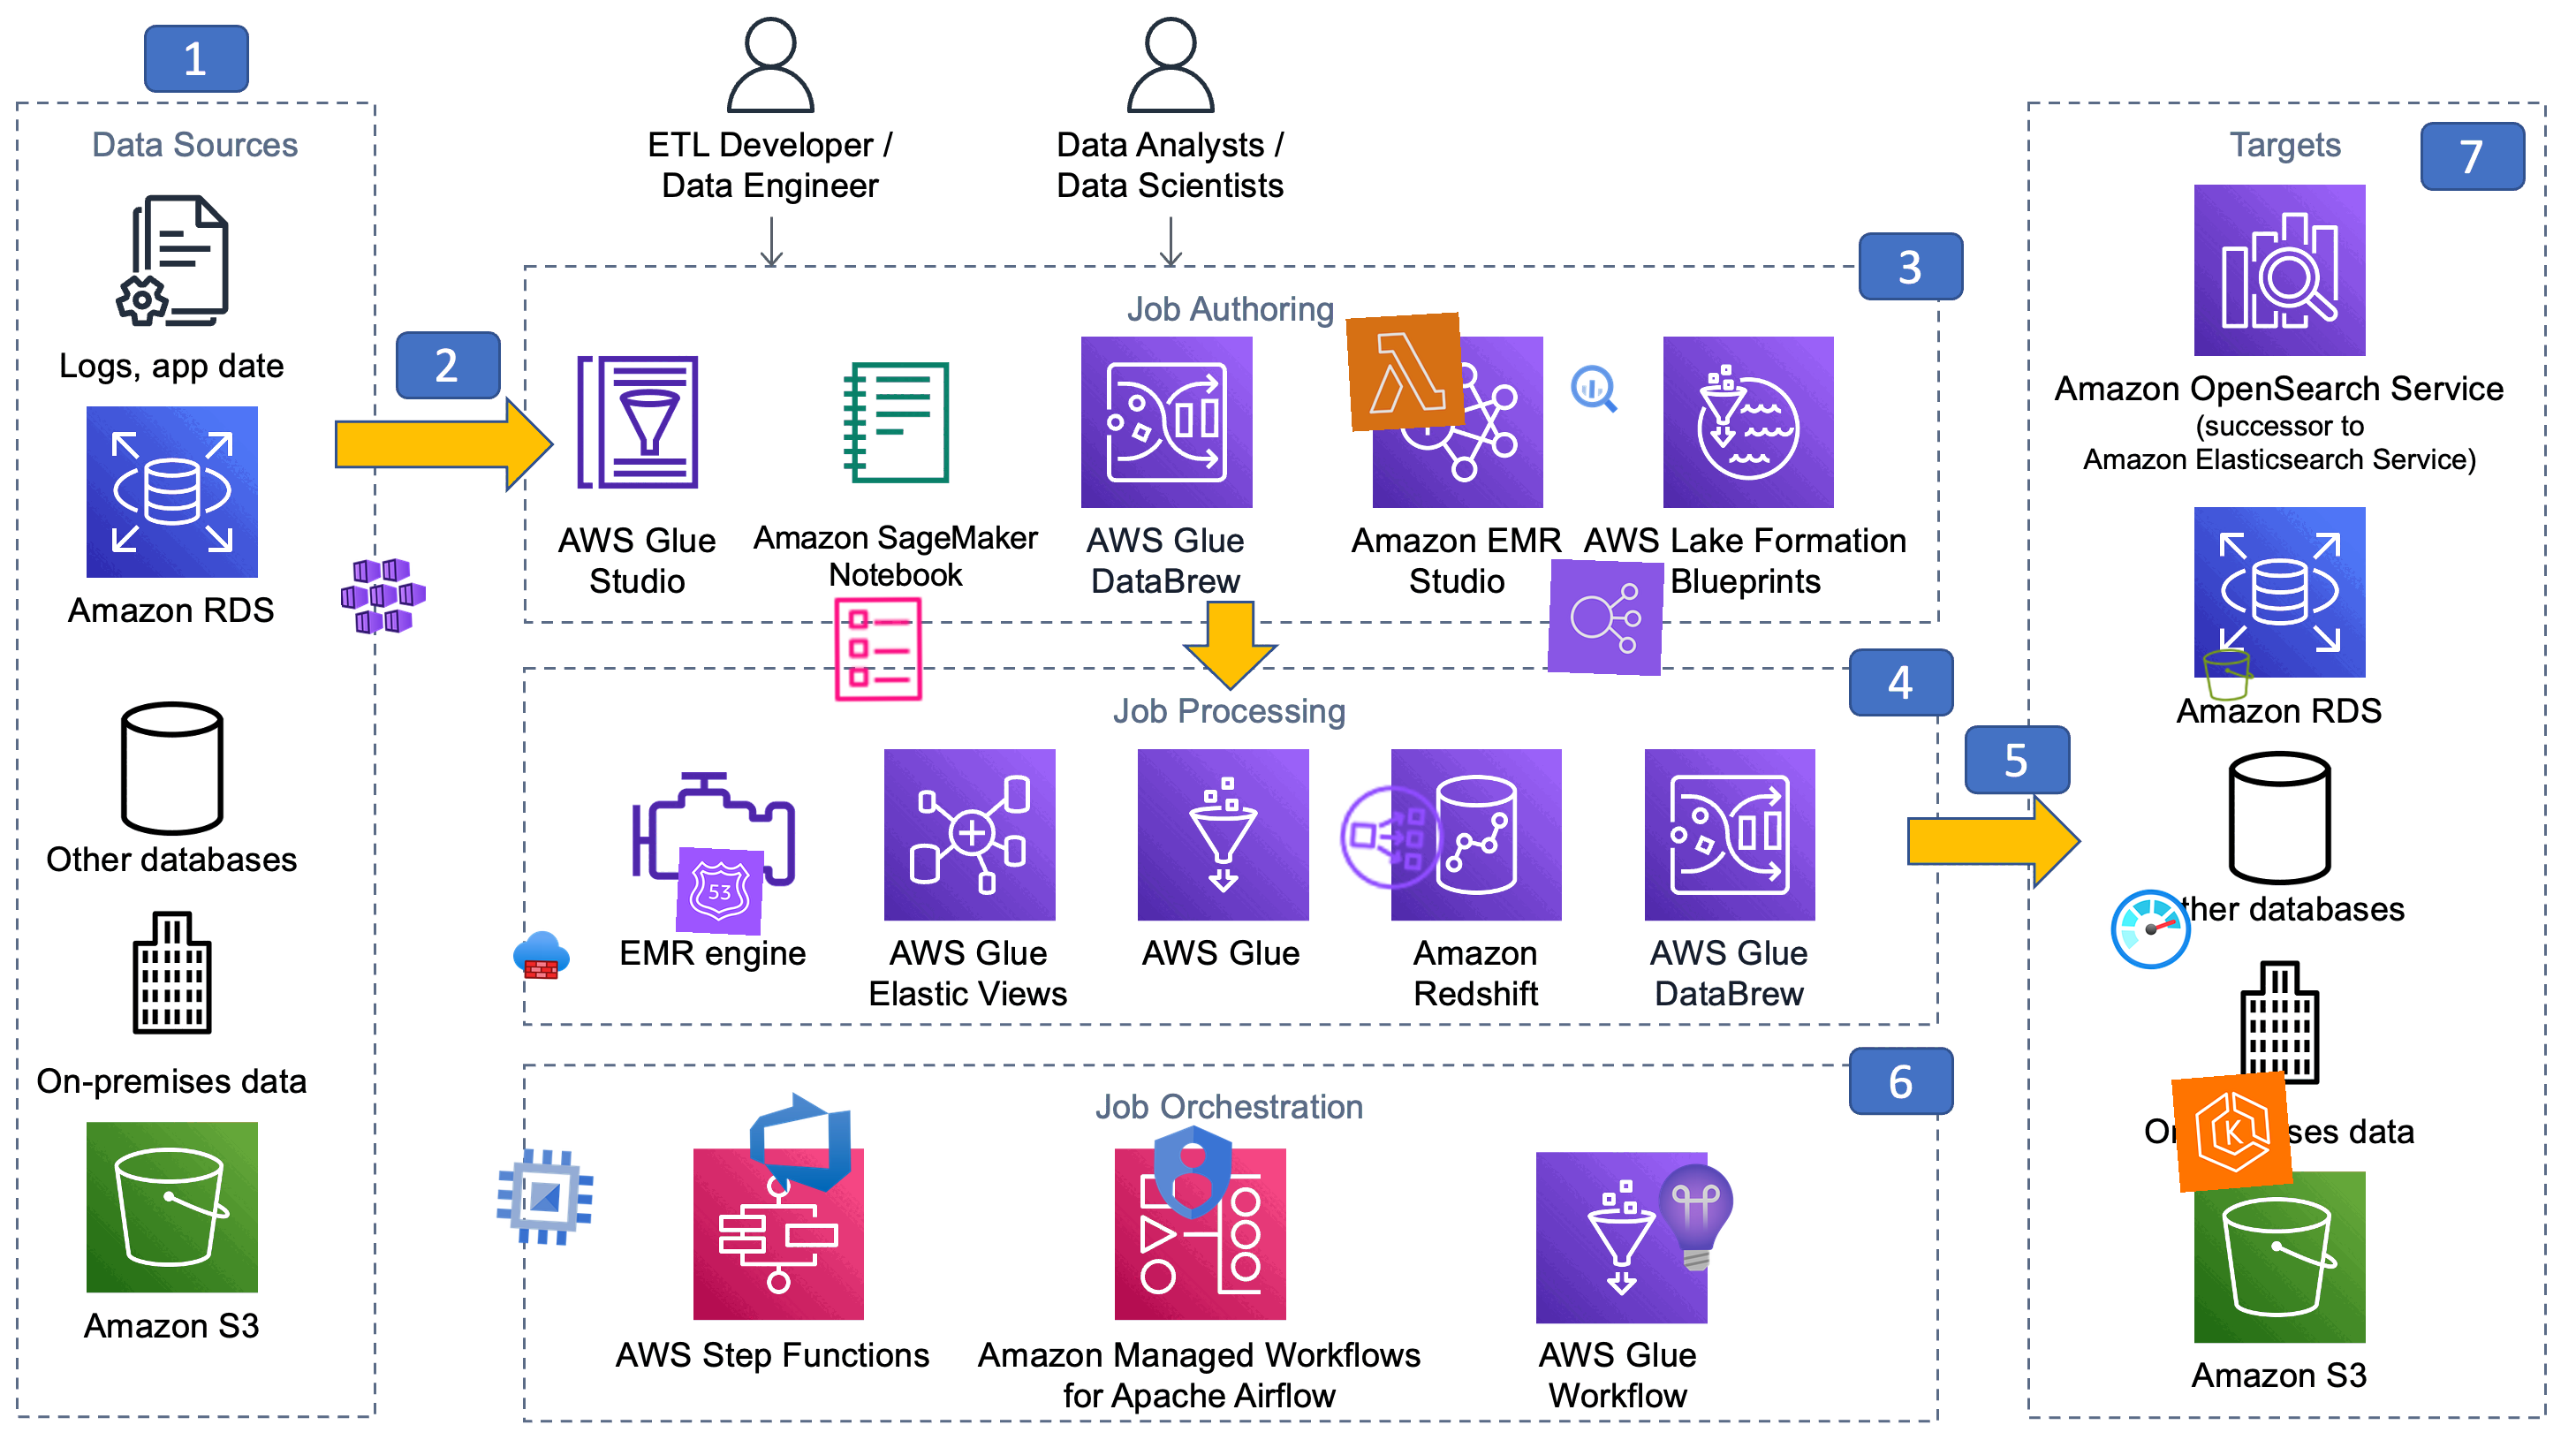aws_amazon_elastic_kubernetes_service: (2171, 1070, 2293, 1192)
aws_amazon_route_53: (674, 846, 764, 936)
aws_cloudformation_template: (819, 593, 934, 708)
aws_elastic_load_balancing: (1546, 559, 1665, 678)
aws_elastic_load_balancing_network_load_balancer: (1330, 777, 1453, 899)
aws_lambda: (1345, 311, 1465, 432)
aws_simple_storage_service_s3_standard: (2199, 646, 2259, 706)
azure_application_insights: (1638, 1160, 1753, 1275)
azure_devops: (743, 1084, 858, 1199)
azure_firewalls: (513, 925, 571, 984)
azure_kubernetes_services: (338, 550, 428, 640)
azure_monitor: (2107, 885, 2196, 973)
gcp_bigquery: (1566, 359, 1624, 417)
gcp_compute_engine: (485, 1137, 605, 1258)
gcp_identity_and_access_management: (1134, 1114, 1251, 1231)
